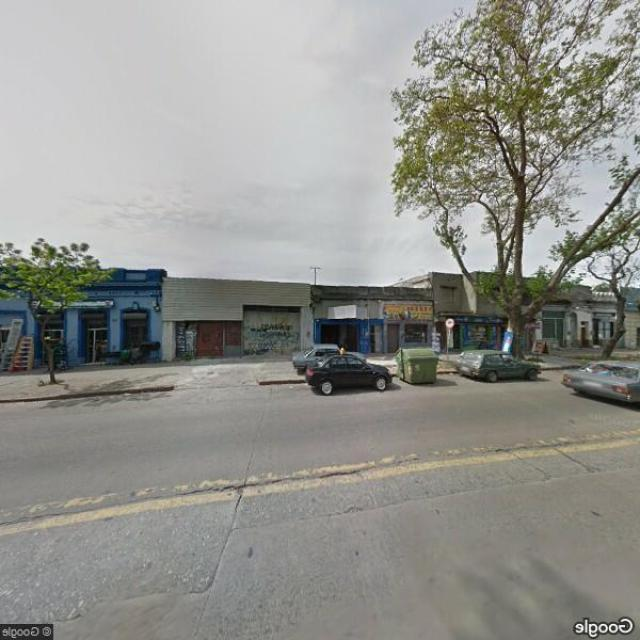garbage container: (390, 342, 446, 388)
